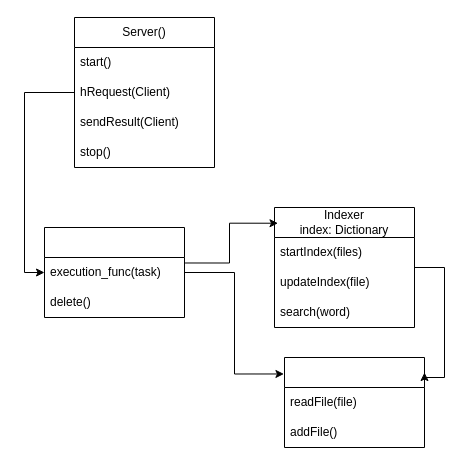
This 470x465 diagram has some shape labels left out. The shapes that lost their labels are listed below. From the top down, each one's box as (x1, y1, x2, y2) in pixels, then its label:
(44, 226, 184, 318): ThreadPool
(284, 356, 424, 448): FileManager
